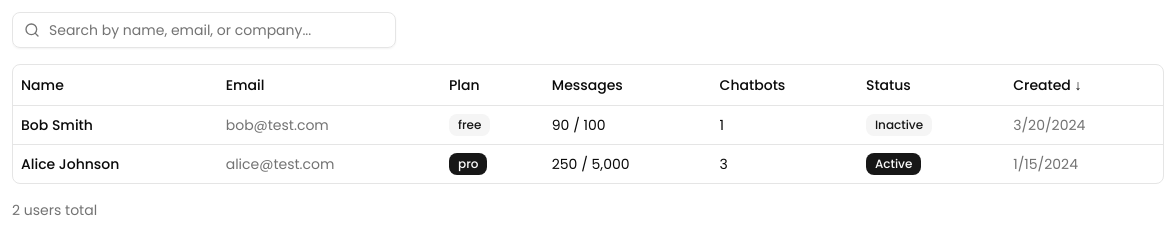
Scenario: UserTable › search filters users by email
The image size is (1164, 233).
In the field with placeholder "Search by name, email, or company...": coordinates (204, 30) [12, 12, 396, 48], type "bob@"
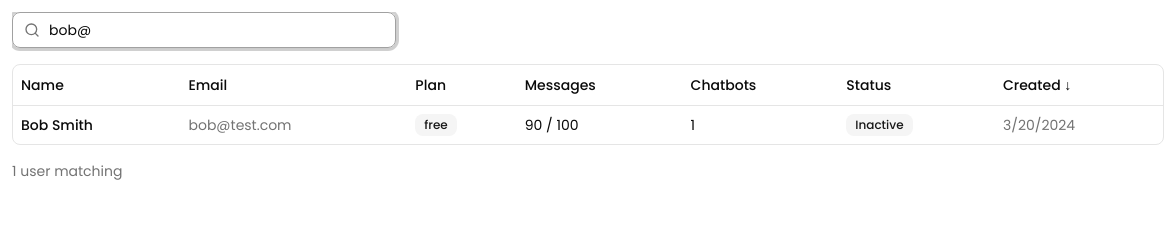
Expected: the link "Bob Smith" is shown, [21, 114, 93, 134]
Expected: the link "Alice Johnson" is gone
